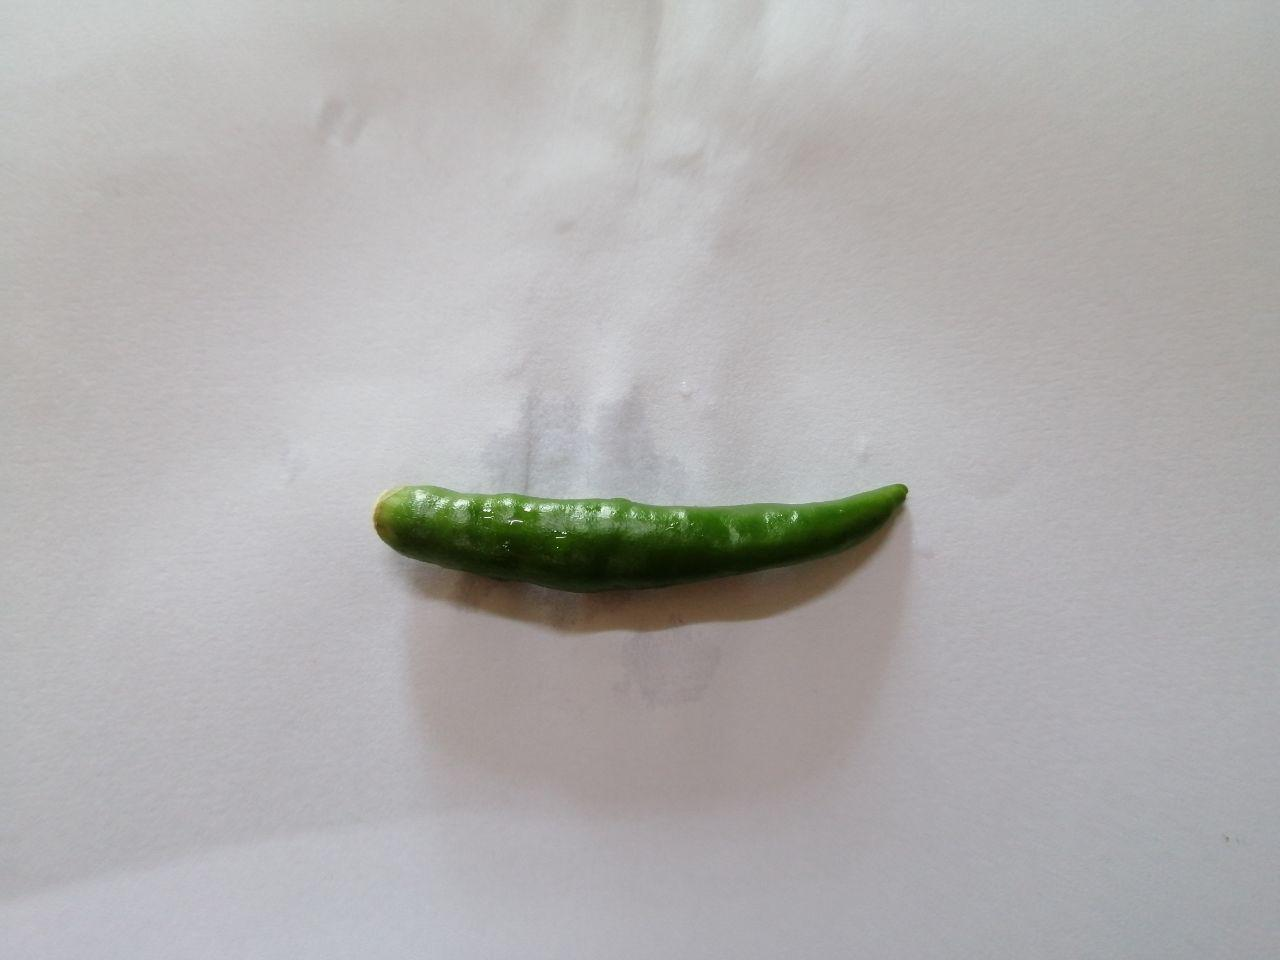lada hijau: (363, 468, 925, 608)
